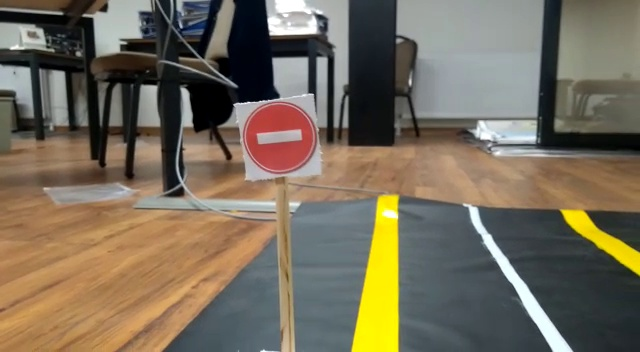girisi_olmayan_yol: (238, 94, 322, 174)
